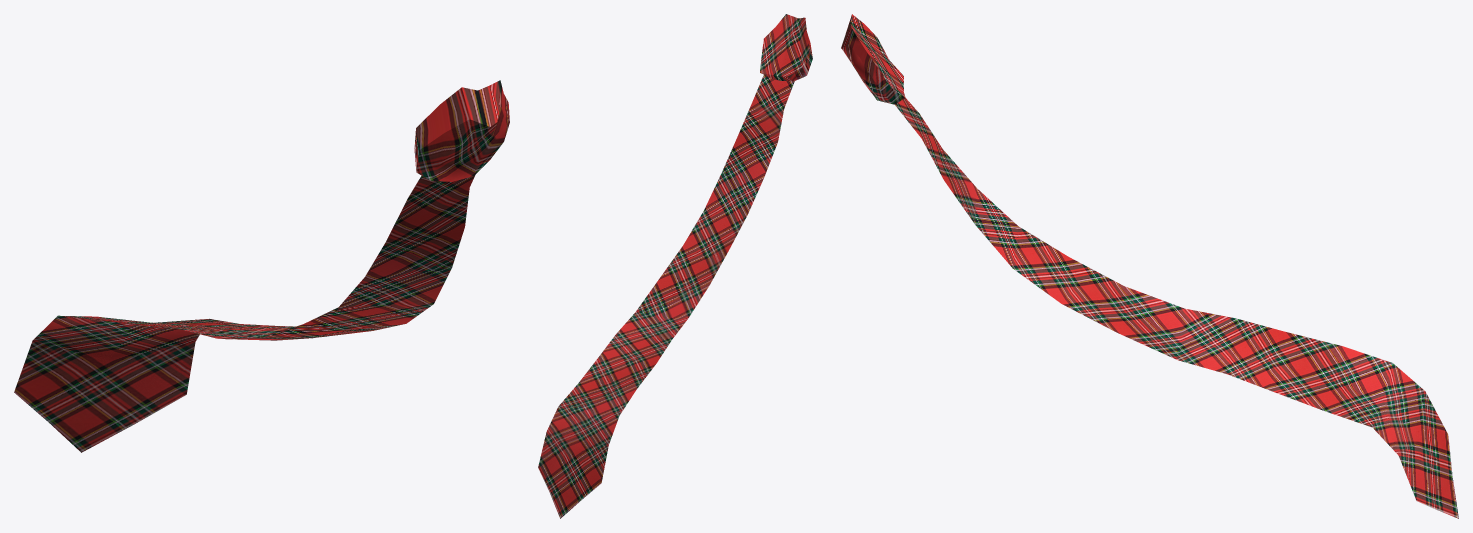
File: Pose-8_SuitTie-1.fbx
The picture shows the model from 3 angles, left to right: view 1: azimuth 30°, elevation 25°; view 2: azimuth 150°, elevation 25°; view 3: azimuth 270°, elevation 25°; orthographic projection. The views are drawn at different scales.
Parts seen in each view (by area): view 1: Pose-8_SuitTie-1; view 2: Pose-8_SuitTie-1; view 3: Pose-8_SuitTie-1.
Boxes of the visible parts, bbox=[...] form: Pose-8_SuitTie-1: bbox=[14, 80, 509, 452]; Pose-8_SuitTie-1: bbox=[538, 14, 812, 518]; Pose-8_SuitTie-1: bbox=[841, 14, 1458, 518].
Size of the model in its own units: 7.12 by 29.95 by 34.49.
